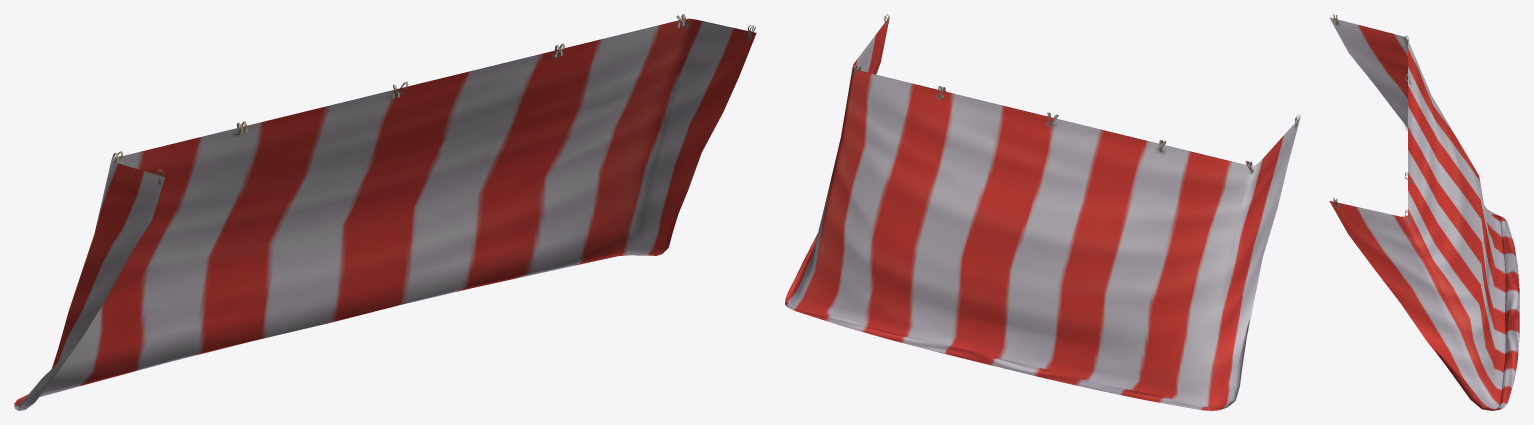
Rendered from jsf_BackSide_s04_c01_t02.fbx.
3 renders of one model, left to right at view 1: azimuth 30°, elevation 25°; view 2: azimuth 150°, elevation 25°; view 3: azimuth 270°, elevation 25°, orthographic. The views are drawn at different scales.
Parts seen in each view (by area): view 1: jsf_BackSide_s04_c01_t02; view 2: jsf_BackSide_s04_c01_t02; view 3: jsf_BackSide_s04_c01_t02.
Boxes of the visible parts, box(x1,y1,x2,y2) form: jsf_BackSide_s04_c01_t02: box(14, 14, 756, 410); jsf_BackSide_s04_c01_t02: box(785, 14, 1300, 410); jsf_BackSide_s04_c01_t02: box(1329, 14, 1519, 410).
Bounding box in the file's own units: 425 × 205 × 171.
